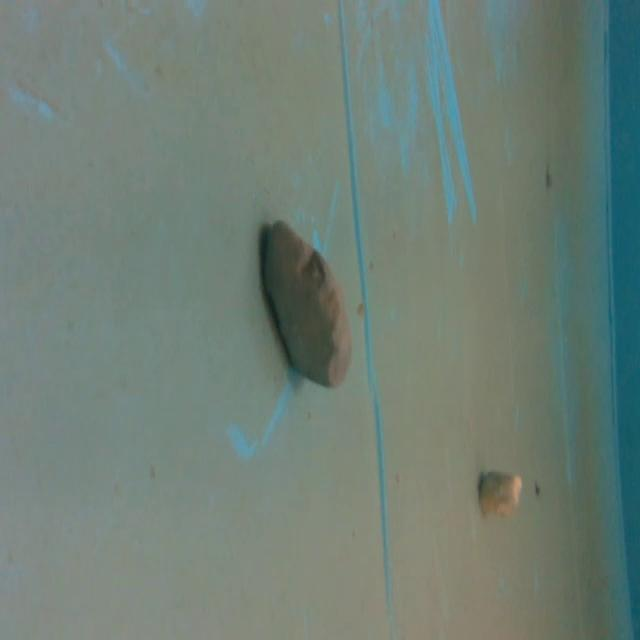rock: (255, 212, 356, 400), (471, 462, 527, 523)
